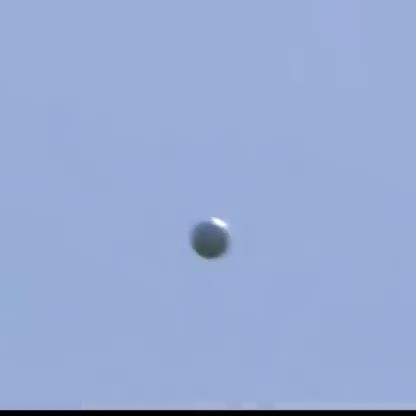golfball: (187, 218, 229, 257)
